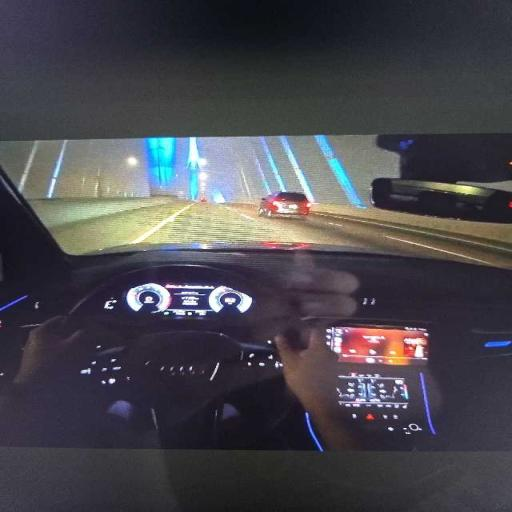car: (259, 192, 311, 217), (200, 197, 207, 202)
lane: (52, 202, 511, 268), (295, 215, 511, 268), (49, 201, 189, 254)
person: (0, 316, 104, 445)
